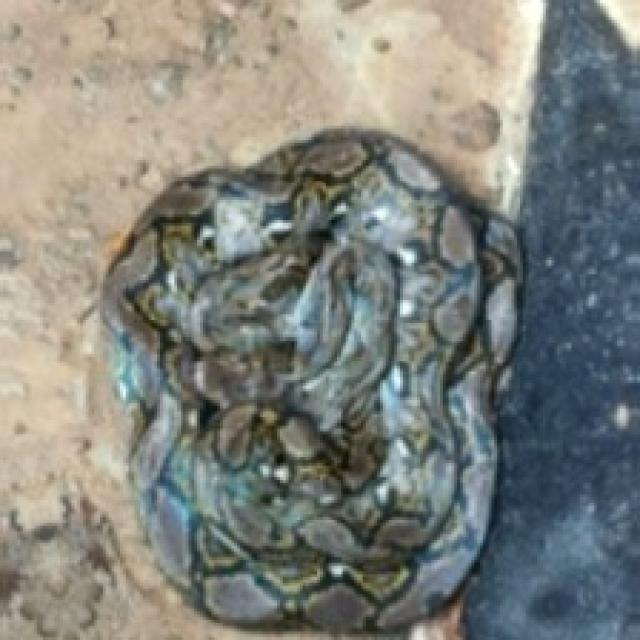reticulated python: (103, 129, 517, 629)
